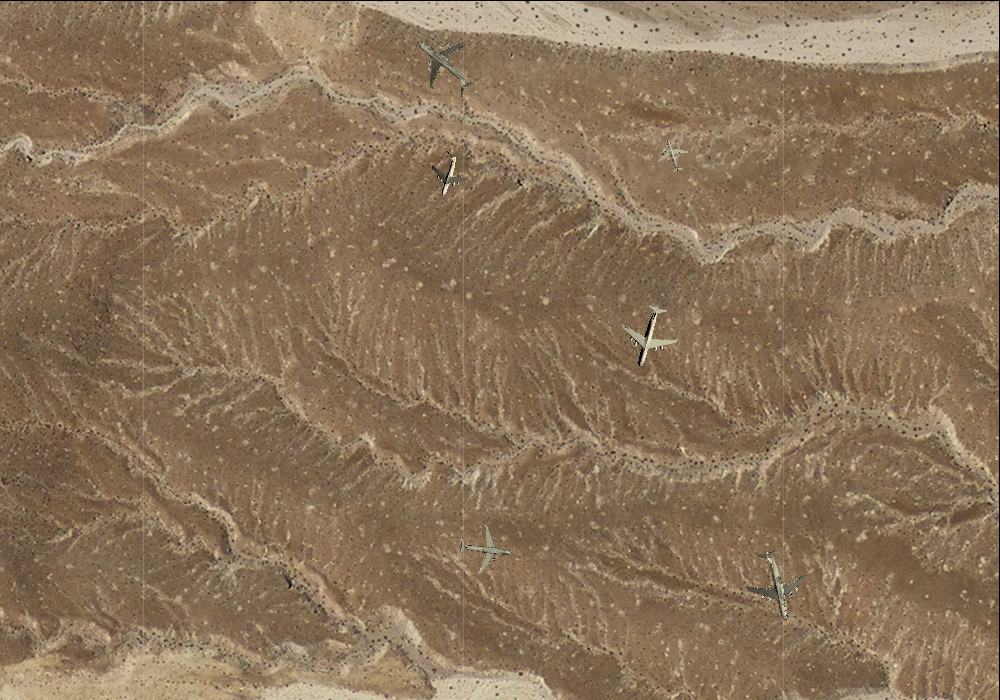plane: (394, 17, 491, 112), (734, 542, 817, 628), (611, 297, 686, 374), (455, 521, 514, 577), (420, 145, 475, 202), (652, 133, 693, 176)
